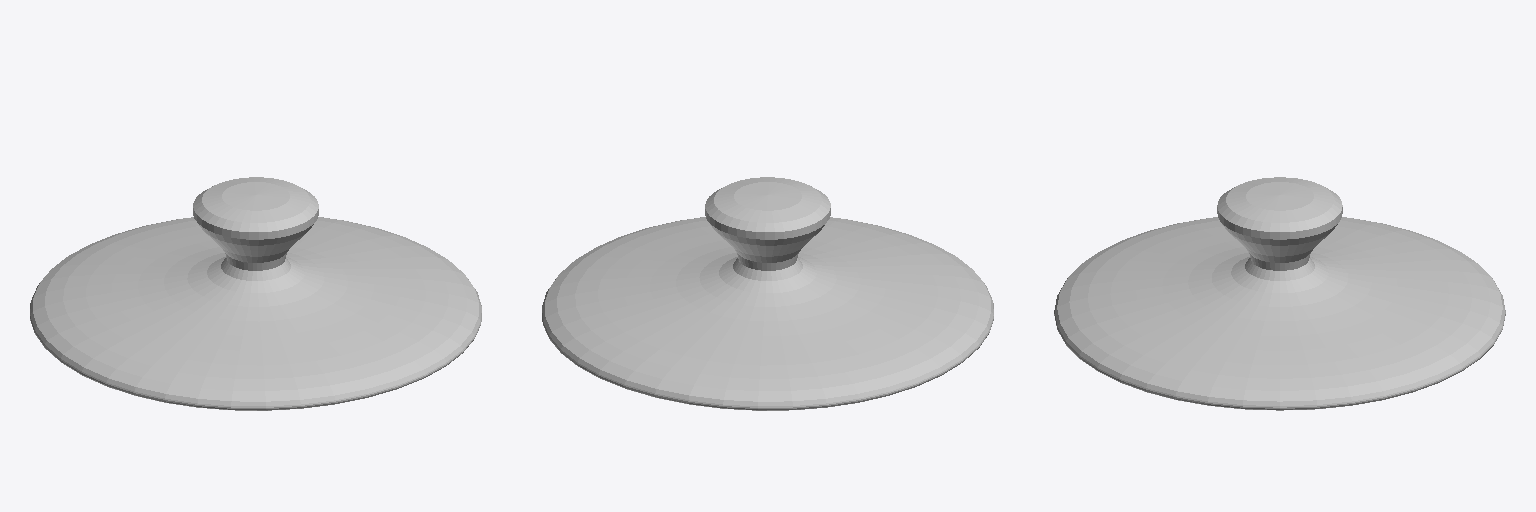
The model's file is teapot_lid_3dprint.obj.
The picture shows the model from 3 angles: view 1: azimuth 30°, elevation 25°; view 2: azimuth 150°, elevation 25°; view 3: azimuth 270°, elevation 25°; orthographic projection.
Visible parts, largest first — view 1: teapot.003_teapot.006; view 2: teapot.003_teapot.006; view 3: teapot.003_teapot.006.
Part boxes in pixels (left/top/right/bottom): teapot.003_teapot.006: left=30, top=177, right=481, bottom=410; teapot.003_teapot.006: left=542, top=177, right=993, bottom=410; teapot.003_teapot.006: left=1054, top=177, right=1505, bottom=410.
Bounding box in the file's own units: 2.58 × 0.7698 × 2.58.